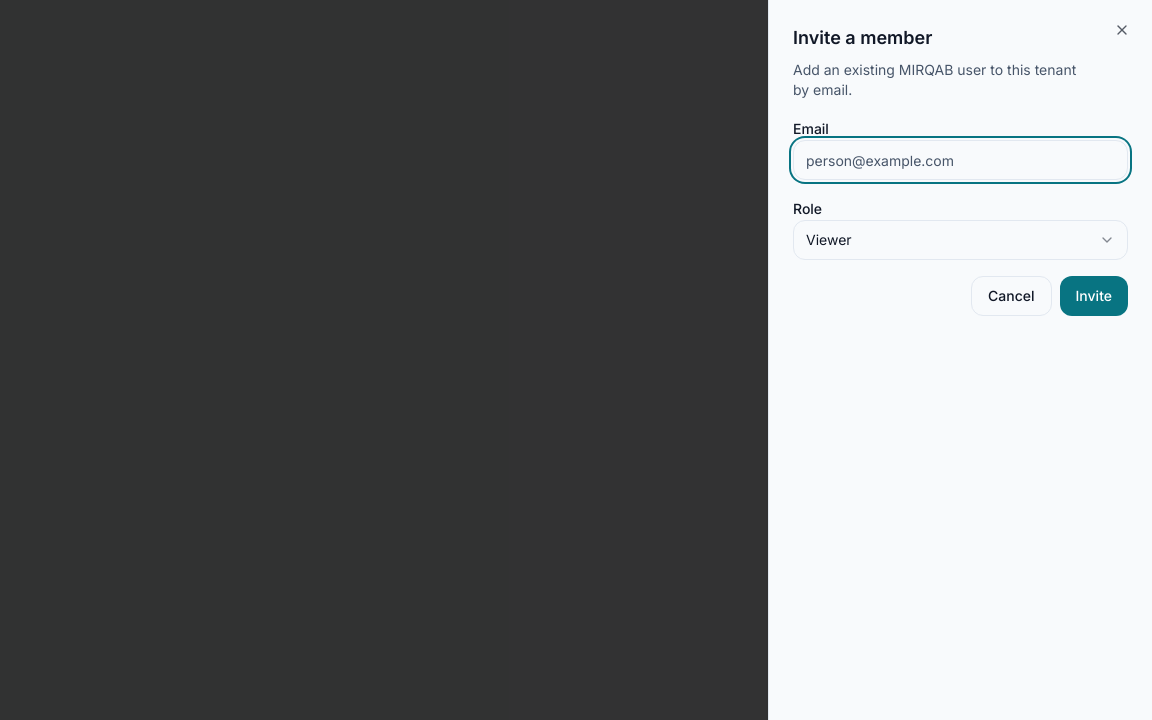
Test: InviteMemberSheet — NEXT_PUBLIC_FEATURE_INVITE_BY_EMAIL on › no match offers to invite by email instead of a dead-end error
Type "new@x.com" into the field labelled "Email" at (960, 160), box [793, 140, 1128, 180]
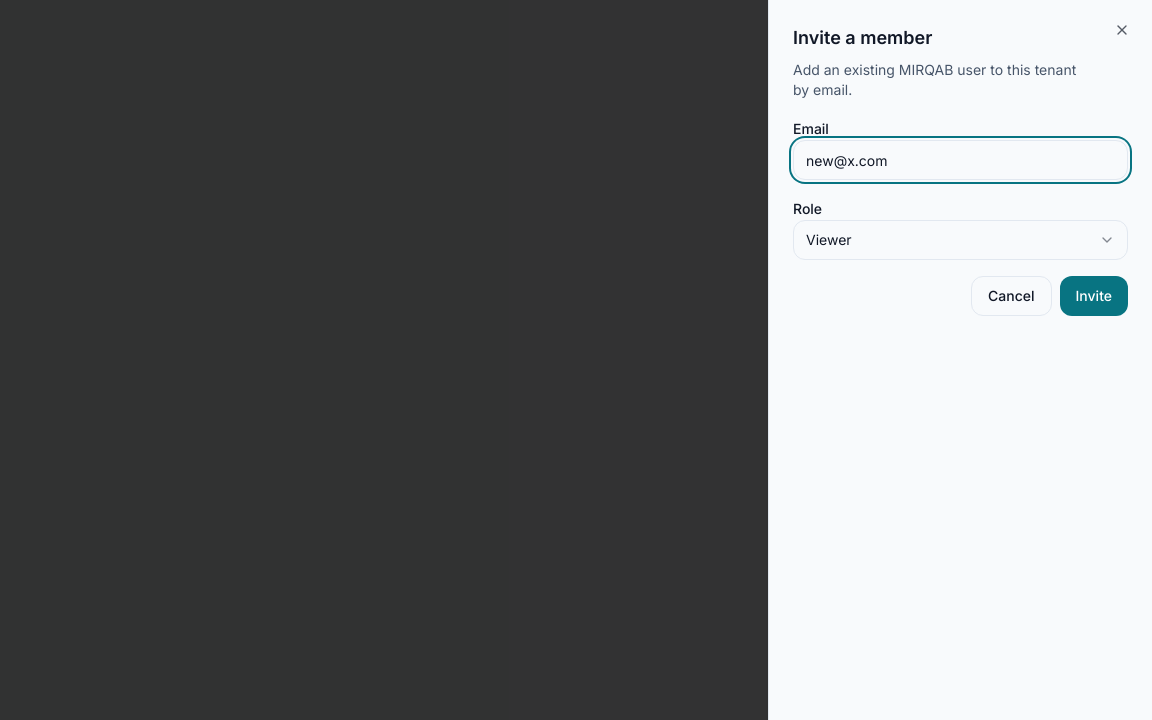
Click the button "Invite" at (1094, 296), box [1060, 276, 1128, 316]
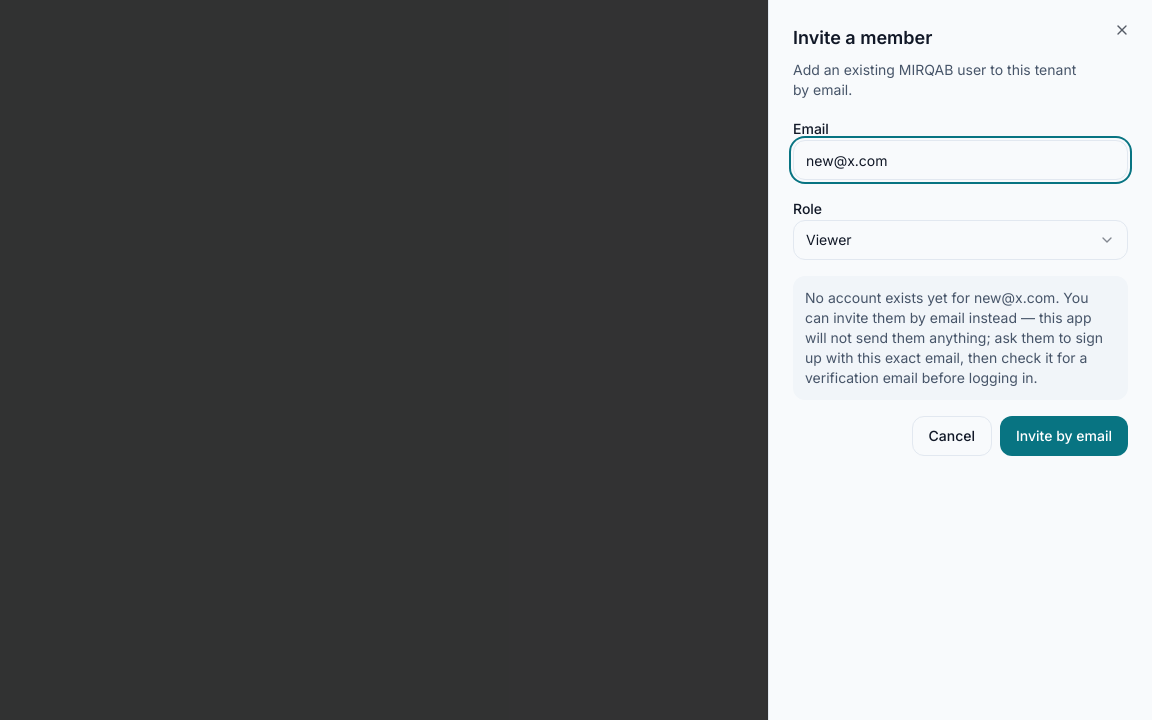
Expected: the button "Invite by email" is shown, [1000, 416, 1128, 456]
